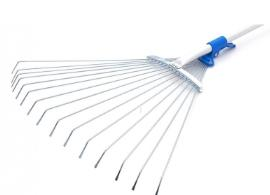RATEAU: (0, 17, 270, 195)
